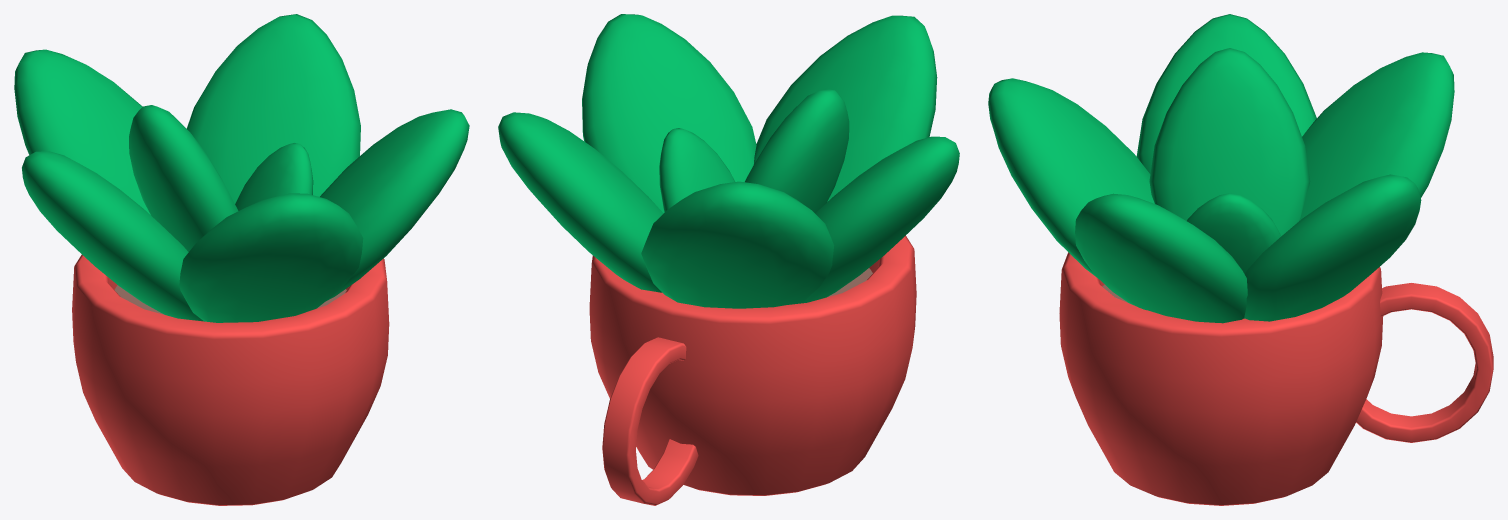
The model's file is Town_12_Plant_7.glb.
3 views of the same model, side by side, from view 1: azimuth 30°, elevation 25°; view 2: azimuth 150°, elevation 25°; view 3: azimuth 270°, elevation 25° (orthographic). The views are drawn at different scales.
Visible parts, largest first — view 1: Town_12_Plant_7; view 2: Town_12_Plant_7; view 3: Town_12_Plant_7.
Boxes of the visible parts, bbox=[...] form: Town_12_Plant_7: bbox=[14, 14, 469, 505]; Town_12_Plant_7: bbox=[498, 14, 959, 505]; Town_12_Plant_7: bbox=[988, 14, 1493, 505].
Size of the model in its own units: 0.366 by 0.3324 by 0.4064.
Materials: 1 (1 with a texture image).
